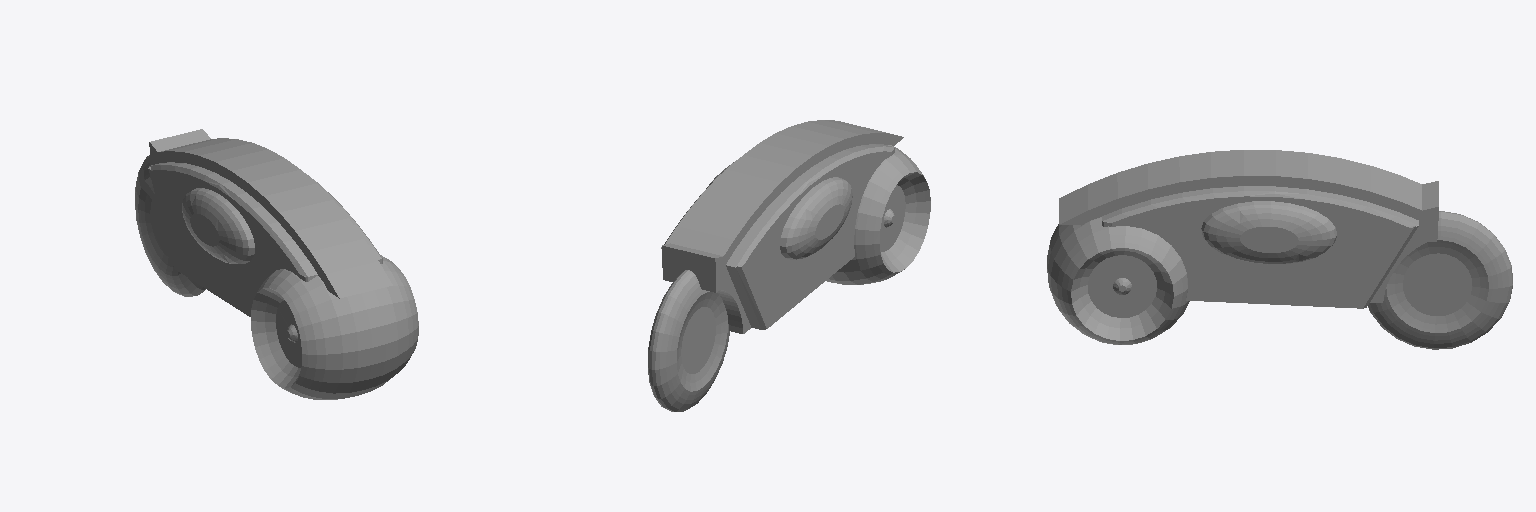
File: bike.obj
The picture shows the model from 3 angles: view 1: azimuth 30°, elevation 25°; view 2: azimuth 150°, elevation 25°; view 3: azimuth 270°, elevation 25°; orthographic projection.
Visible parts, largest first — view 1: Mesh5_Group3_Component_1_2_Component_2_1_Group_4_1_Model; view 2: Mesh5_Group3_Component_1_2_Component_2_1_Group_4_1_Model; view 3: Mesh5_Group3_Component_1_2_Component_2_1_Group_4_1_Model.
Boxes of the visible parts, x1,y1,x2,y2 form: Mesh5_Group3_Component_1_2_Component_2_1_Group_4_1_Model: [135, 129, 418, 399]; Mesh5_Group3_Component_1_2_Component_2_1_Group_4_1_Model: [648, 120, 930, 411]; Mesh5_Group3_Component_1_2_Component_2_1_Group_4_1_Model: [1047, 150, 1512, 349].
Size of the model in its own units: 0.0693 by 0.1056 by 0.2395.